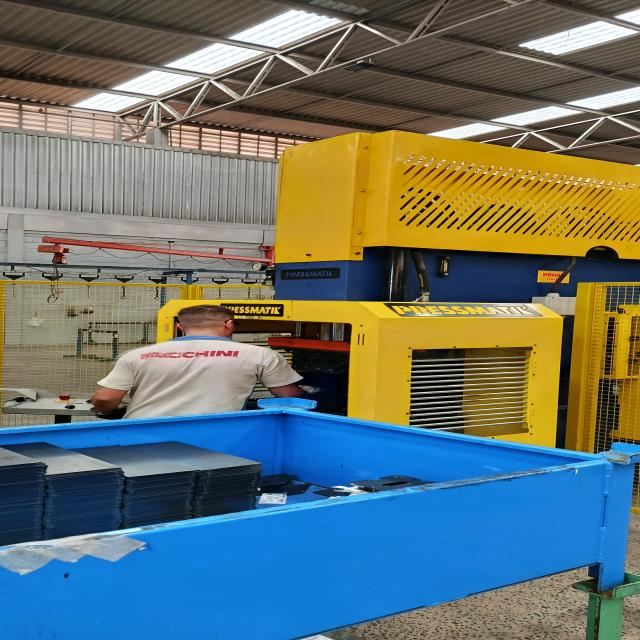oculos-epi: (224, 320, 240, 330)
